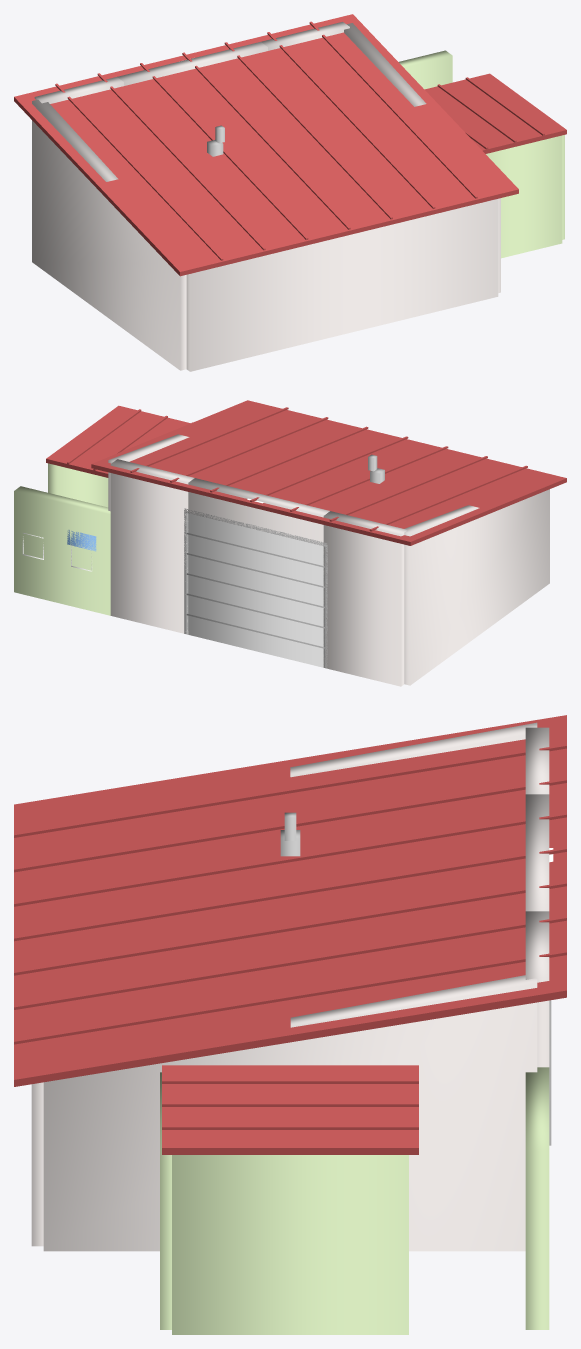
Rendered from Building_1_6.glb.
3 views of the same model, one above another, from view 1: azimuth 30°, elevation 25°; view 2: azimuth 150°, elevation 25°; view 3: azimuth 270°, elevation 25° (orthographic). The views are drawn at different scales.
Visible parts, largest first — view 1: Roof, BackWall, LeftWall, Annex_Back, Annex_Roof, FrontWall_T, RightWall, Annex_Front, FrontWall_L, FrontWall_R, Corr_3, Corr_6 (+5 smaller); view 2: Roof, LeftWall, FrontWall_L, FrontWall_R, Annex_Front, FrontWall_T, Annex_Roof, DoorSeg_5, DoorSeg_0, DoorSeg_4, DoorSeg_1, DoorSeg_2 (+14 smaller); view 3: Roof, RightWall, Annex_Right, Annex_Roof, Annex_Front, LeftWall, FrontWall_T, Corr_2, Corr_0, Corr_5, Corr_3, Corr_6 (+9 smaller).
Part boxes in pixels (x1=…): Roof: x1=14, y1=14, x2=518, y2=276; BackWall: x1=186, y1=199, x2=498, y2=371; LeftWall: x1=32, y1=99, x2=186, y2=370; Annex_Back: x1=486, y1=135, x2=562, y2=258; Annex_Roof: x1=424, y1=73, x2=566, y2=153; FrontWall_T: x1=117, y1=42, x2=267, y2=85; RightWall: x1=344, y1=23, x2=500, y2=292; Annex_Front: x1=399, y1=50, x2=452, y2=89; FrontWall_L: x1=34, y1=77, x2=123, y2=103; FrontWall_R: x1=261, y1=22, x2=349, y2=50; Corr_3: x1=182, y1=52, x2=350, y2=229; Corr_6: x1=309, y1=21, x2=477, y2=198; Roof: x1=91, y1=400, x2=566, y2=545; LeftWall: x1=404, y1=489, x2=549, y2=685; FrontWall_L: x1=323, y1=511, x2=407, y2=686; FrontWall_R: x1=110, y1=459, x2=194, y2=634; Annex_Front: x1=14, y1=486, x2=110, y2=615; FrontWall_T: x1=188, y1=478, x2=329, y2=545; Annex_Roof: x1=46, y1=405, x2=190, y2=477; DoorSeg_5: x1=188, y1=513, x2=323, y2=565; DoorSeg_0: x1=188, y1=615, x2=323, y2=667; DoorSeg_4: x1=188, y1=534, x2=323, y2=586; DoorSeg_1: x1=188, y1=595, x2=323, y2=646; DoorSeg_2: x1=188, y1=575, x2=323, y2=626; Roof: x1=14, y1=715, x2=566, y2=1086; RightWall: x1=43, y1=975, x2=537, y2=1251; Annex_Right: x1=172, y1=1155, x2=408, y2=1334; Annex_Roof: x1=162, y1=1065, x2=418, y2=1154; Annex_Front: x1=525, y1=1067, x2=549, y2=1329; LeftWall: x1=290, y1=722, x2=537, y2=777; FrontWall_T: x1=525, y1=794, x2=549, y2=911; Corr_2: x1=14, y1=813, x2=566, y2=906; Corr_0: x1=14, y1=744, x2=566, y2=837; Corr_5: x1=14, y1=916, x2=566, y2=1009; Corr_3: x1=14, y1=847, x2=566, y2=941; Corr_6: x1=14, y1=951, x2=566, y2=1044.
Size of the model in its own units: 4.21 by 1.52 by 2.8.
